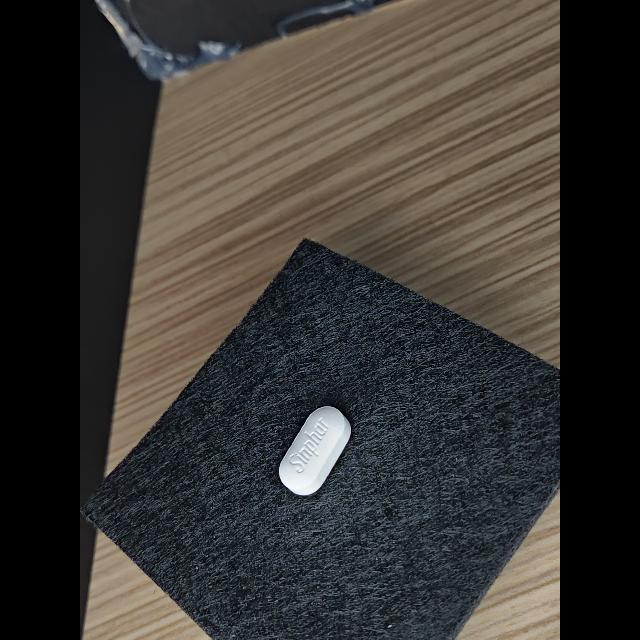Intact Pill: (279, 406, 351, 495)
